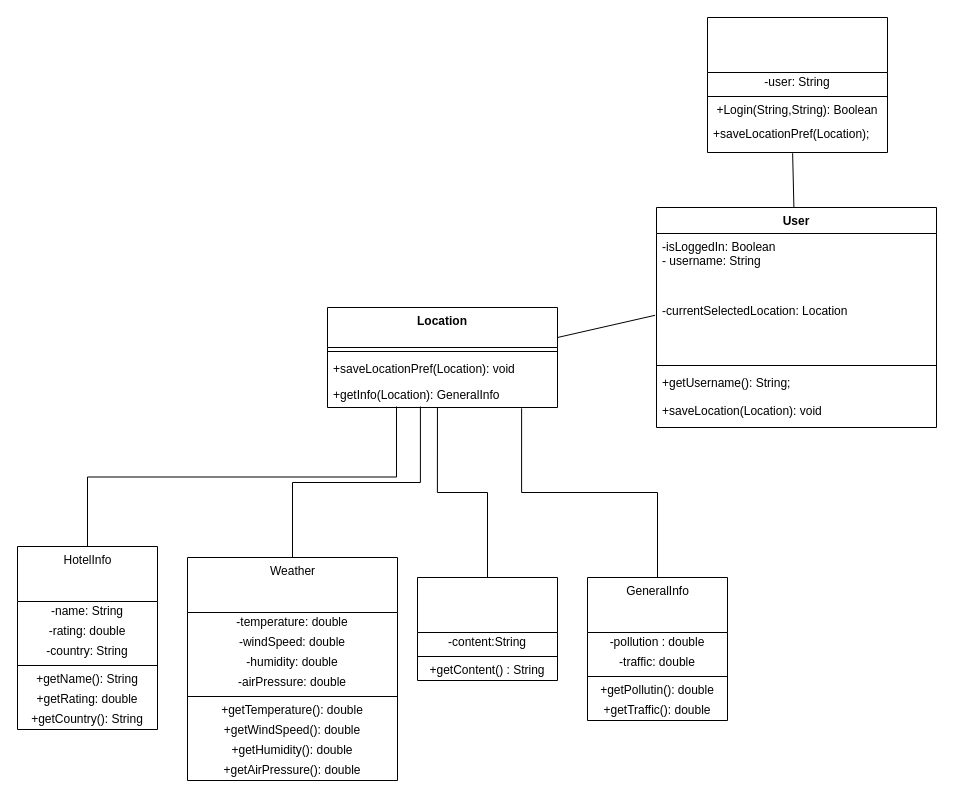
This 962x798 diagram has some shape labels left out. Here are the shapes that lost their labels. From the top down, the box of each, then its label:
(706, 16, 888, 152): Plugin
(416, 576, 558, 680): Restrictions
